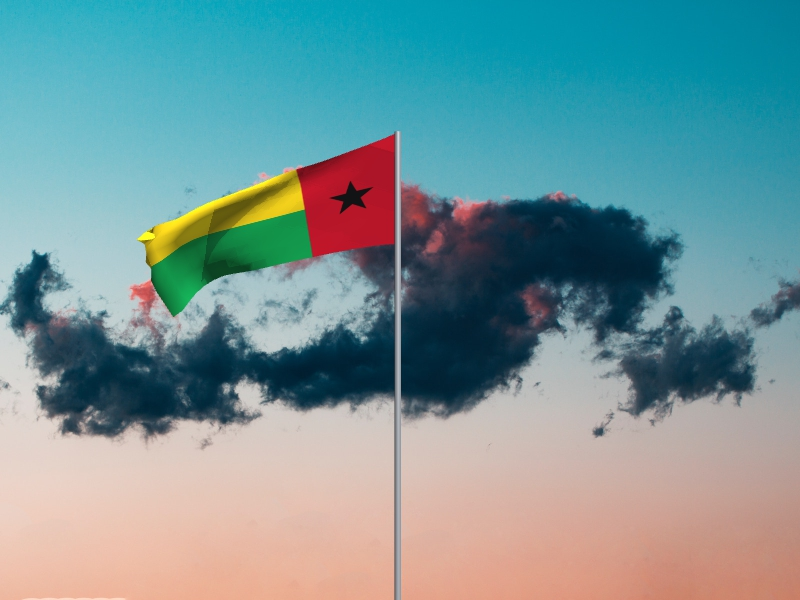gw: (136, 135, 395, 319)
